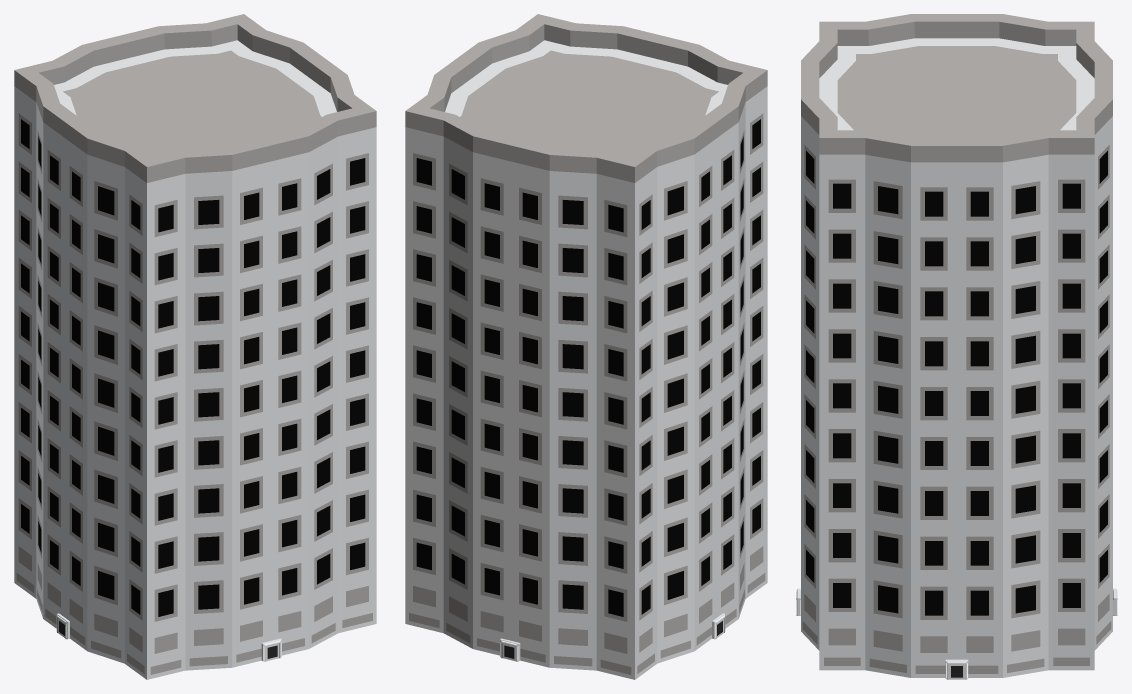
The model's file is house_new_13.glb.
The picture shows the model from 3 angles, left to right: view 1: azimuth 30°, elevation 25°; view 2: azimuth 150°, elevation 25°; view 3: azimuth 270°, elevation 25°; orthographic projection. The views are drawn at different scales.
Visible parts, largest first — view 1: EmptyApartmentHouse9Floor.001_Placeable_0; view 2: EmptyApartmentHouse9Floor.001_Placeable_0; view 3: EmptyApartmentHouse9Floor.001_Placeable_0.
Part boxes in pixels (x1,y1,x2,y2): EmptyApartmentHouse9Floor.001_Placeable_0: (14, 14, 376, 679); EmptyApartmentHouse9Floor.001_Placeable_0: (405, 14, 767, 679); EmptyApartmentHouse9Floor.001_Placeable_0: (796, 14, 1117, 679).
Bounding box in the file's own units: 13.33 × 24.37 × 13.33.
1 material, 1 textured.
